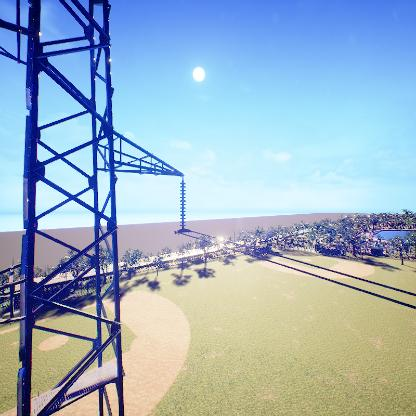insulator: (178, 181, 187, 229)
